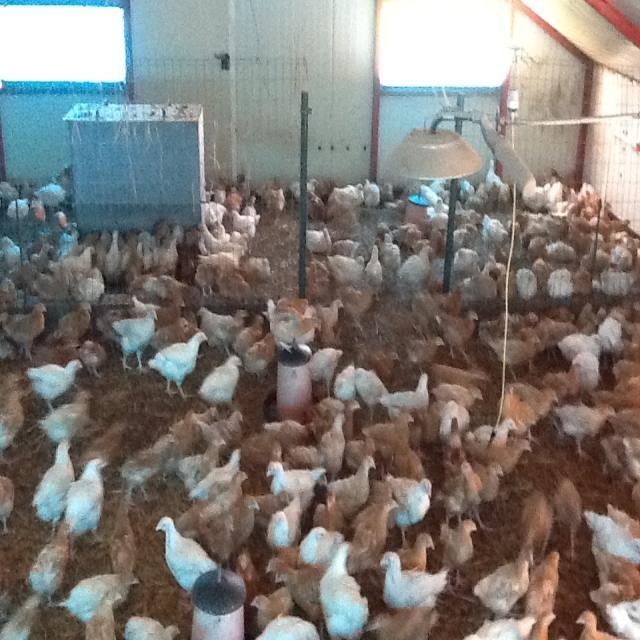poussin: (154, 516, 222, 592), (182, 467, 250, 538), (471, 546, 538, 618), (320, 538, 370, 634), (146, 330, 214, 400), (57, 570, 142, 621), (207, 493, 264, 568), (496, 380, 560, 446), (378, 552, 448, 610), (122, 430, 180, 500), (31, 438, 74, 532), (382, 473, 437, 541), (195, 304, 259, 362), (26, 522, 72, 602), (562, 401, 618, 465), (26, 356, 84, 416), (262, 296, 324, 352), (534, 362, 582, 434), (173, 434, 230, 494), (38, 388, 95, 448), (352, 496, 399, 568), (584, 505, 640, 565), (112, 308, 160, 378), (588, 546, 640, 610), (437, 456, 483, 528), (190, 446, 246, 504), (65, 458, 106, 536), (272, 562, 328, 619), (464, 460, 510, 528), (0, 302, 53, 358), (266, 456, 326, 504), (554, 477, 585, 566), (326, 454, 379, 506), (526, 547, 564, 619), (438, 516, 478, 584), (171, 406, 217, 465), (473, 438, 536, 481), (263, 493, 306, 555), (0, 374, 31, 460), (0, 585, 48, 640), (364, 605, 439, 640), (437, 308, 482, 366), (478, 309, 540, 351), (48, 302, 96, 354), (195, 355, 247, 402), (382, 372, 430, 422), (310, 392, 362, 438), (198, 407, 248, 454), (110, 497, 138, 580), (360, 411, 414, 454), (250, 583, 298, 631), (489, 334, 541, 378), (596, 382, 640, 432), (524, 488, 554, 561), (353, 366, 391, 422), (84, 587, 124, 640), (532, 312, 580, 356), (278, 418, 322, 466), (336, 280, 376, 328), (34, 264, 82, 304), (396, 530, 441, 572), (322, 410, 349, 480), (244, 331, 284, 378), (462, 616, 540, 640), (600, 426, 634, 481), (408, 330, 450, 374), (232, 314, 272, 359), (396, 245, 432, 295), (301, 524, 344, 564), (95, 304, 138, 344), (611, 324, 640, 383), (431, 379, 488, 409), (120, 615, 188, 640), (128, 297, 184, 327), (250, 617, 323, 640), (469, 418, 521, 450), (309, 295, 349, 336), (0, 470, 22, 544), (432, 286, 467, 332), (385, 441, 426, 480), (150, 315, 193, 352), (438, 402, 473, 446), (600, 599, 640, 637), (617, 432, 640, 498), (573, 609, 621, 640), (480, 215, 513, 260), (324, 252, 367, 286), (198, 243, 248, 272), (102, 228, 125, 290), (376, 222, 404, 272), (342, 430, 380, 466), (598, 262, 636, 298), (471, 260, 504, 300), (122, 228, 144, 288), (328, 178, 364, 214), (200, 223, 248, 250), (80, 335, 110, 378), (558, 333, 604, 361), (332, 358, 364, 398), (411, 224, 451, 256), (216, 262, 248, 302), (262, 546, 304, 576), (160, 231, 188, 276), (312, 493, 346, 530), (194, 258, 226, 296), (516, 210, 566, 234), (304, 226, 330, 271), (74, 268, 108, 302), (56, 246, 94, 276), (576, 303, 607, 339), (237, 546, 260, 594), (140, 274, 190, 296), (26, 240, 54, 279), (307, 190, 335, 228), (140, 224, 162, 272), (538, 177, 568, 212), (545, 268, 579, 298), (572, 354, 601, 389), (596, 318, 624, 354), (548, 234, 580, 265), (568, 205, 598, 238), (522, 172, 548, 210), (203, 190, 230, 226), (531, 256, 553, 300), (0, 234, 23, 276), (370, 348, 402, 378), (6, 188, 36, 220), (601, 215, 630, 248), (246, 252, 272, 288), (340, 398, 363, 438), (528, 609, 557, 640), (38, 182, 70, 210), (263, 183, 287, 220), (516, 268, 542, 302), (90, 232, 112, 272), (580, 244, 611, 272), (359, 177, 384, 210), (452, 218, 479, 248), (289, 178, 320, 204), (484, 158, 506, 193), (0, 177, 28, 204), (496, 266, 518, 300), (525, 233, 550, 262), (570, 266, 594, 296), (468, 181, 492, 211), (452, 247, 481, 270), (575, 178, 598, 206), (609, 244, 635, 268), (222, 183, 245, 210), (232, 207, 256, 232), (420, 180, 442, 206), (454, 202, 479, 224), (0, 272, 15, 308), (428, 208, 450, 228), (498, 177, 510, 212), (460, 178, 474, 202), (432, 196, 450, 214)
